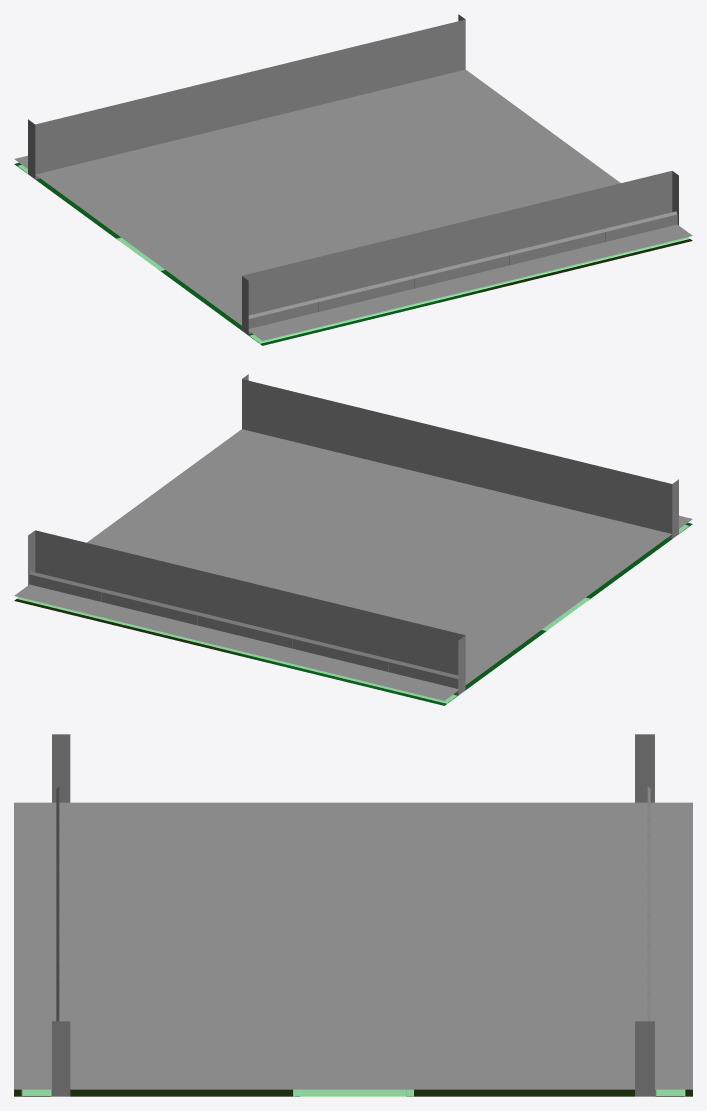
Rendered from RT LINE V01 T01 SNAP.FBX.
3 renders of one model, top to bottom at view 1: azimuth 30°, elevation 25°; view 2: azimuth 150°, elevation 25°; view 3: azimuth 270°, elevation 25°, orthographic. The views are drawn at different scales.
Parts seen in each view (by area): view 1: RT LINE V01 T01 SNAP, RT LINE V01 T01 COLL II, RT LINE V01 T01 COLL I, RT LINE V01 T01 Fence Shared II, RT LINE V01 T01 SR II, RT LINE V01 T01 NAV Grass.Conc, RT LINE V01 T01; view 2: RT LINE V01 T01 SNAP, RT LINE V01 T01 COLL I, RT LINE V01 T01 COLL II, RT LINE V01 T01 Fence Shared I, RT LINE V01 T01 SR I, RT LINE V01 T01 NAV Grass, RT LINE V01 T01; view 3: RT LINE V01 T01 SNAP, RT LINE V01 T01, RT LINE V01 T01 COLL II, RT LINE V01 T01 COLL I, RT LINE V01 T01 RubW II, RT LINE V01 T01 RubW I, RT LINE V01 T01 Fence Shared II, RT LINE V01 T01 Fence Shared I.
Boxes of the visible parts, x1,y1,x2,y2 form: RT LINE V01 T01 SNAP: [14, 69, 692, 340]; RT LINE V01 T01 COLL II: [28, 14, 465, 179]; RT LINE V01 T01 COLL I: [242, 171, 678, 335]; RT LINE V01 T01 Fence Shared II: [248, 211, 677, 333]; RT LINE V01 T01 SR II: [249, 237, 689, 343]; RT LINE V01 T01 NAV Grass.Conc: [159, 270, 501, 345]; RT LINE V01 T01: [119, 239, 692, 300]; RT LINE V01 T01 SNAP: [14, 429, 692, 700]; RT LINE V01 T01 COLL I: [242, 374, 678, 538]; RT LINE V01 T01 COLL II: [28, 530, 465, 695]; RT LINE V01 T01 Fence Shared I: [29, 571, 458, 693]; RT LINE V01 T01 SR I: [17, 597, 457, 703]; RT LINE V01 T01 NAV Grass: [213, 630, 547, 705]; RT LINE V01 T01: [14, 599, 587, 664]; RT LINE V01 T01 SNAP: [14, 802, 692, 1089]; RT LINE V01 T01: [14, 1089, 692, 1096]; RT LINE V01 T01 COLL II: [635, 734, 654, 1096]; RT LINE V01 T01 COLL I: [52, 734, 70, 1096]; RT LINE V01 T01 RubW II: [59, 802, 66, 1021]; RT LINE V01 T01 RubW I: [640, 802, 647, 1021]; RT LINE V01 T01 Fence Shared II: [56, 786, 59, 1021]; RT LINE V01 T01 Fence Shared I: [647, 786, 650, 1021].
Size of the model in its own units: 90 by 11 by 90.
